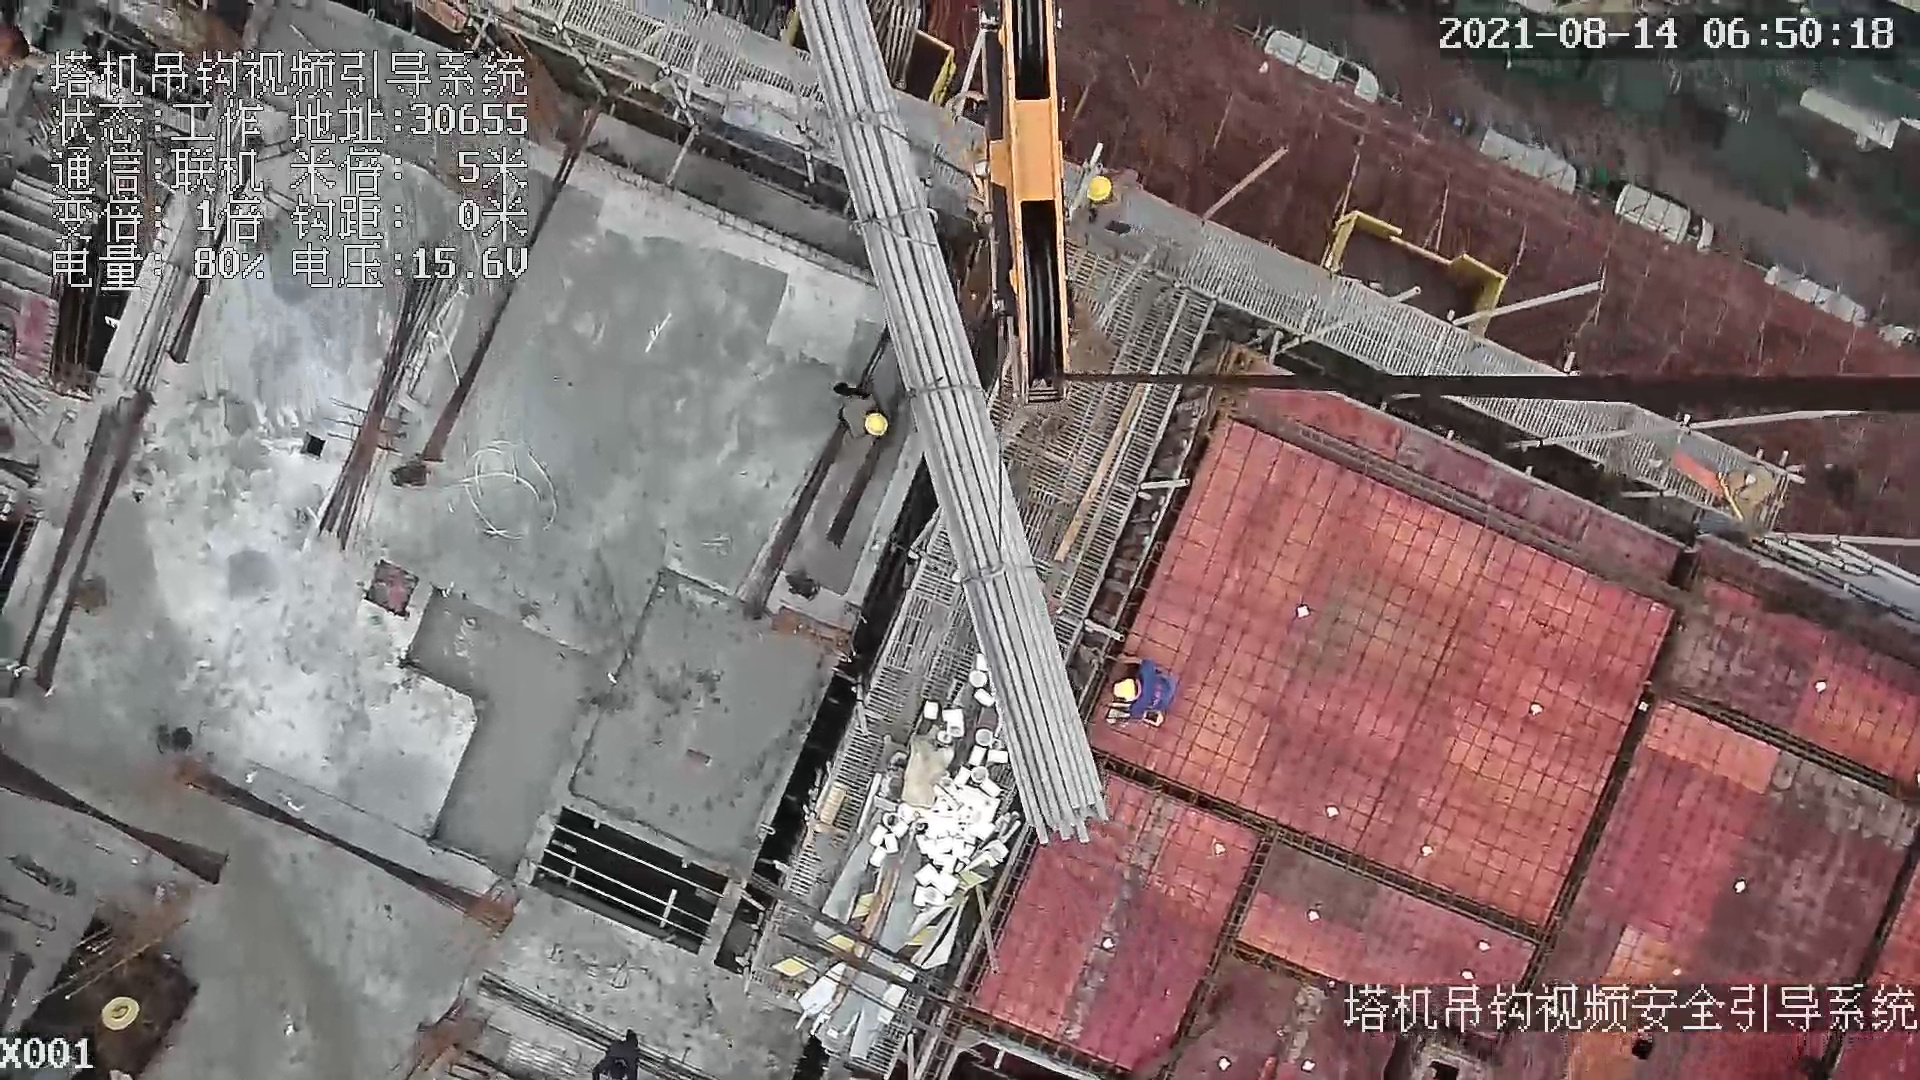helmet: (1075, 171, 1122, 212), (1110, 671, 1146, 706), (865, 406, 893, 443)
hook: (942, 1, 1081, 405)
person: (1110, 656, 1181, 730), (1081, 164, 1150, 239), (835, 383, 896, 442)
